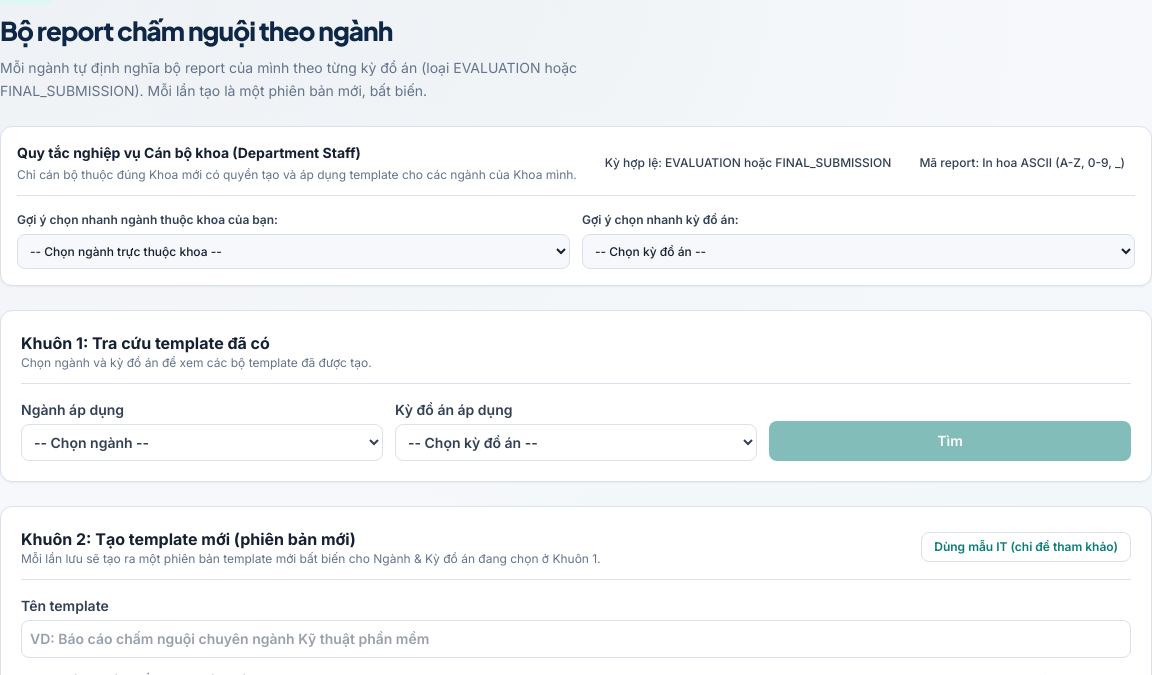
it: ColdTemplateManagementPage › loads the IT example into the report rows for reference only
Click the button "Dùng mẫu IT (chỉ để tham khảo)" at [1026, 547], box [921, 532, 1131, 562]
(page scrolled)
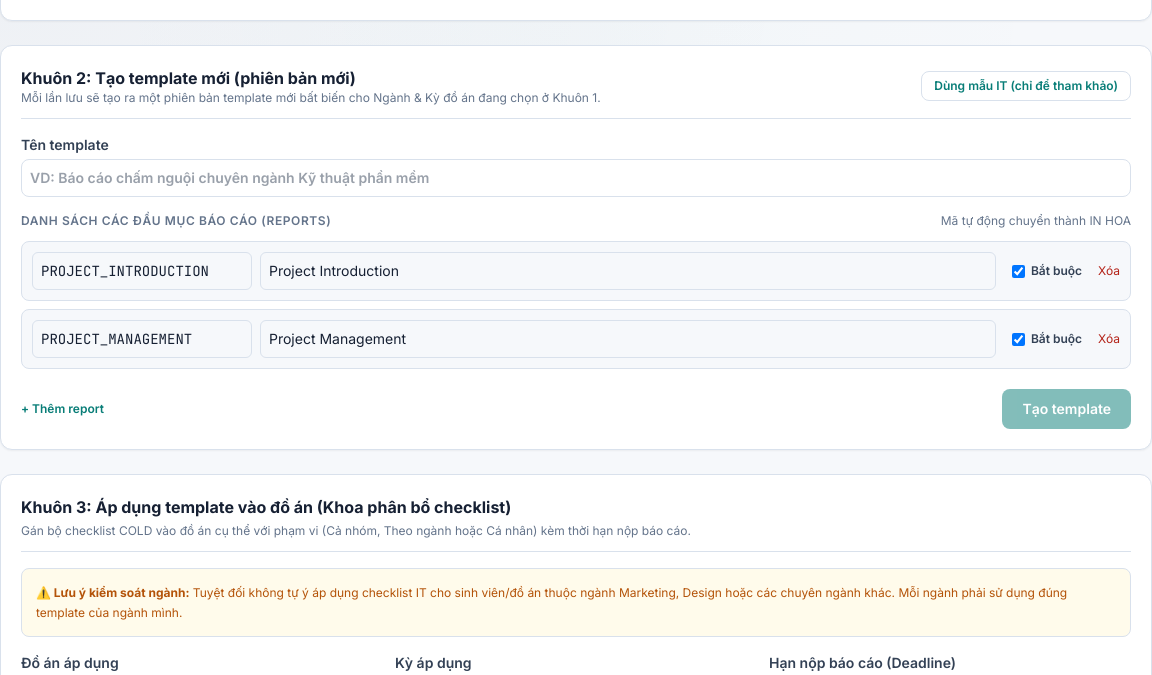
Expected: the 1st field showing "PROJECT_INTRODUCTION" is shown, [32, 252, 252, 290]
Expected: the 3rd field showing "PROJECT_MANAGEMENT" is shown, [32, 320, 252, 358]
